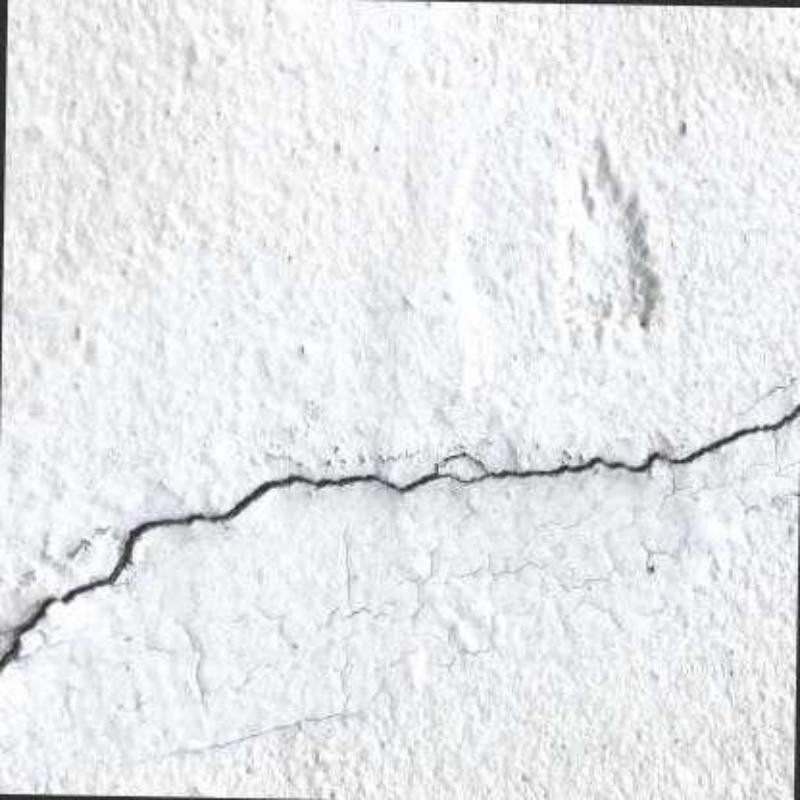crack: (0, 400, 800, 679)
